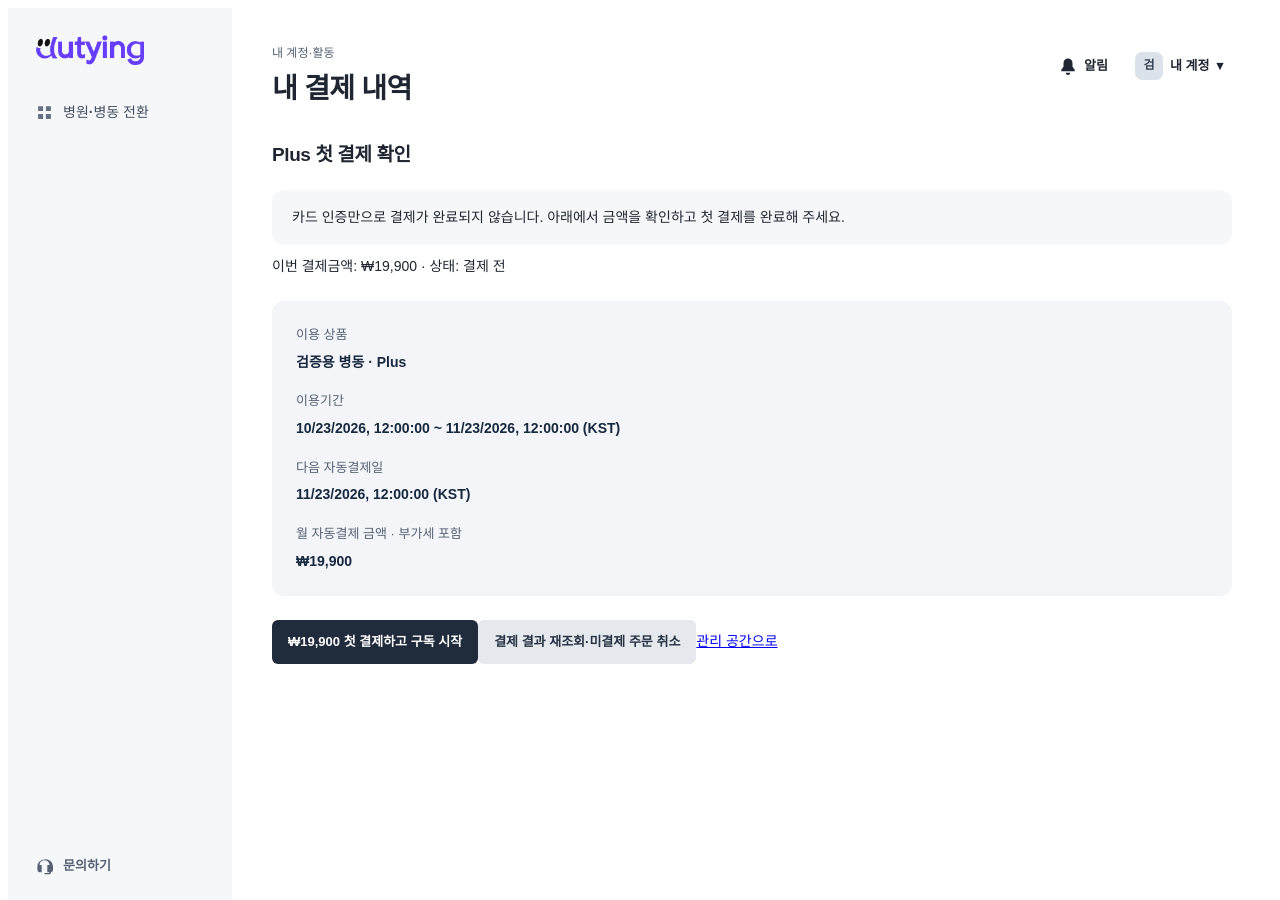
Test: card authorization callback and first charge › offers status recovery instead of another charge after an uncertain response and failed status fetch
What coordinates should you click on to do the following:
click the button "₩19,900 첫 결제하고 구독 시작"
I would click on:
 (375, 642)
Its box is [272,620,478,664].
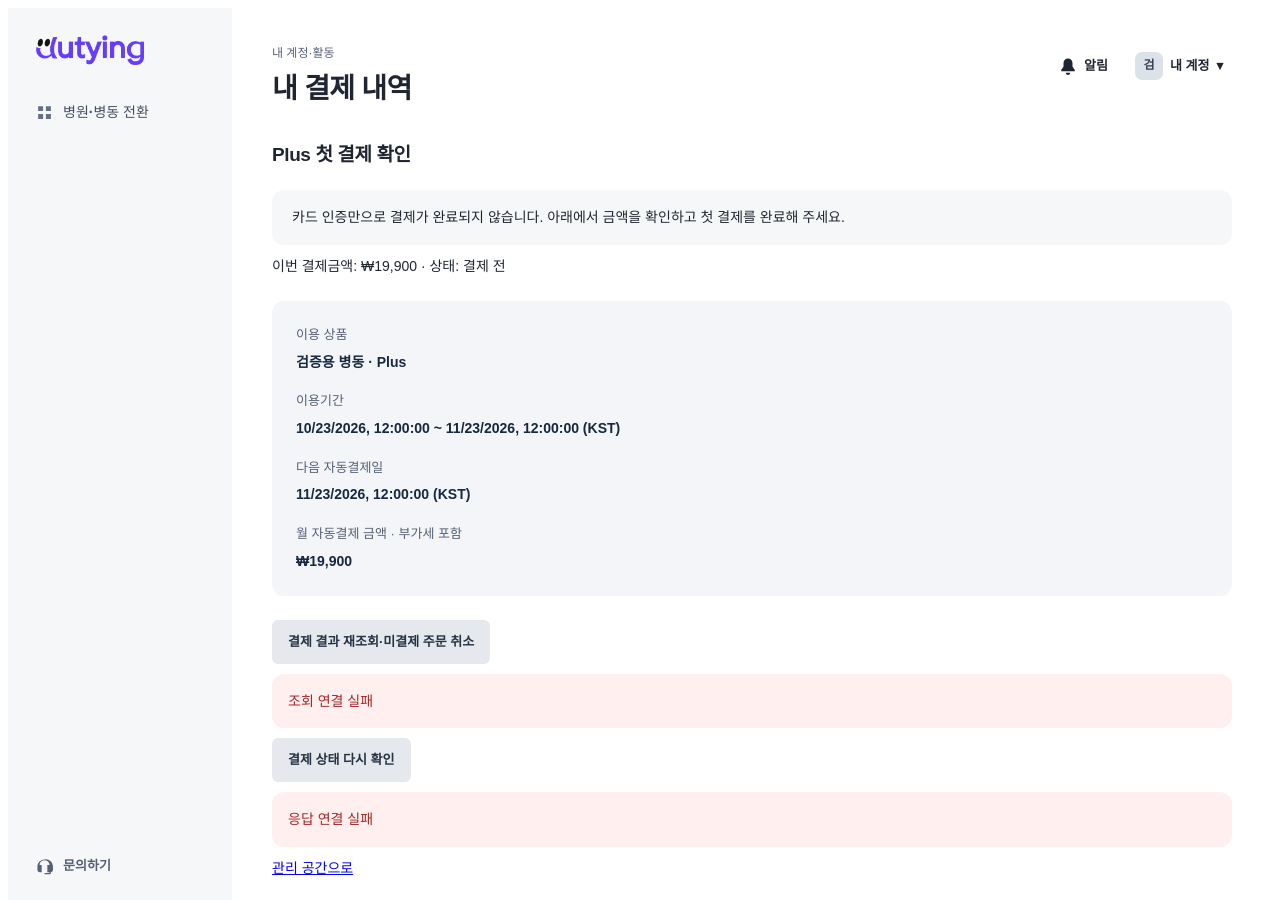
Expected: the button "결제 상태 다시 확인" is shown, [272,738,410,782]
Expected: the button "첫 결제하고 구독 시작" is gone
